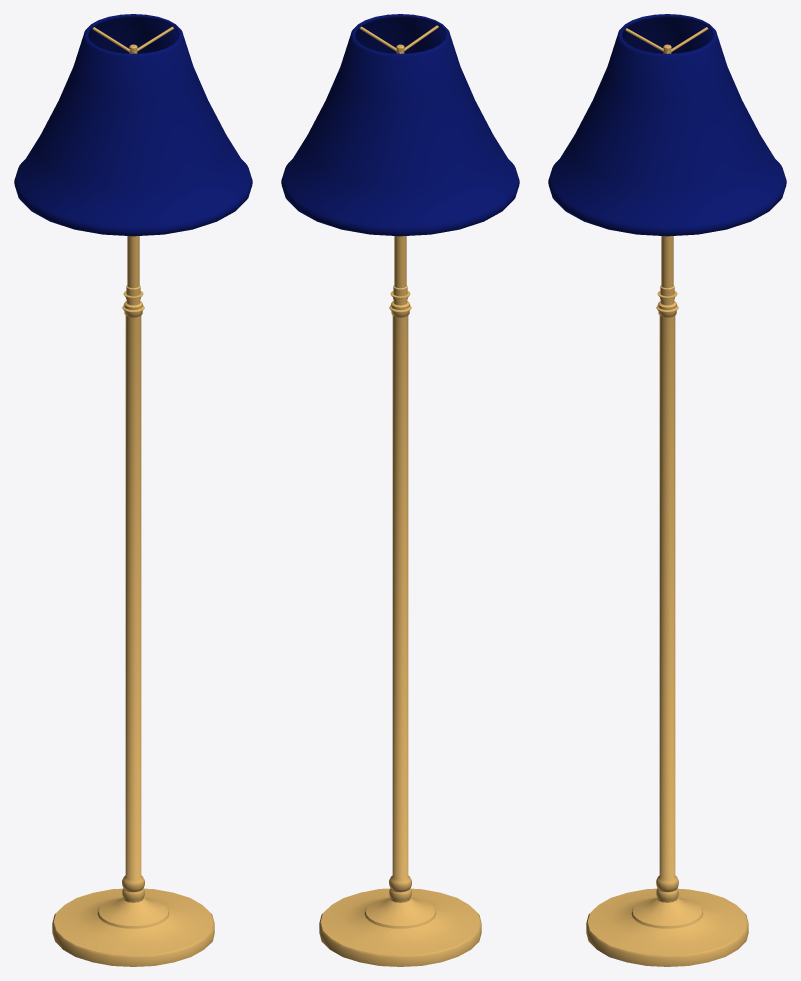
File: FBX_FloorLamp.fbx
3 views of the same model, side by side, from view 1: azimuth 30°, elevation 25°; view 2: azimuth 150°, elevation 25°; view 3: azimuth 270°, elevation 25° (orthographic).
Visible parts, largest first — view 1: FloorLamp; view 2: FloorLamp; view 3: FloorLamp.
Boxes of the visible parts, <box> form: FloorLamp: <box>14,14,252,966</box>; FloorLamp: <box>281,14,519,966</box>; FloorLamp: <box>548,14,786,966</box>.
Size of the model in its own units: 40.63 by 169 by 40.63.
